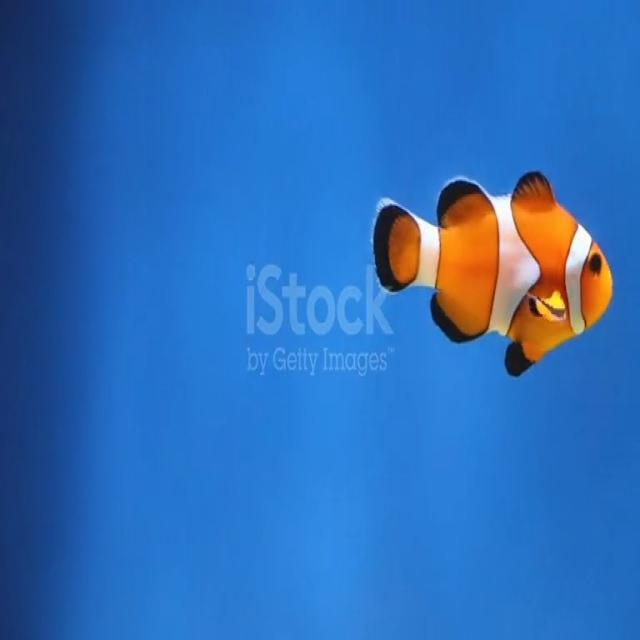fish: (372, 151, 616, 381)
